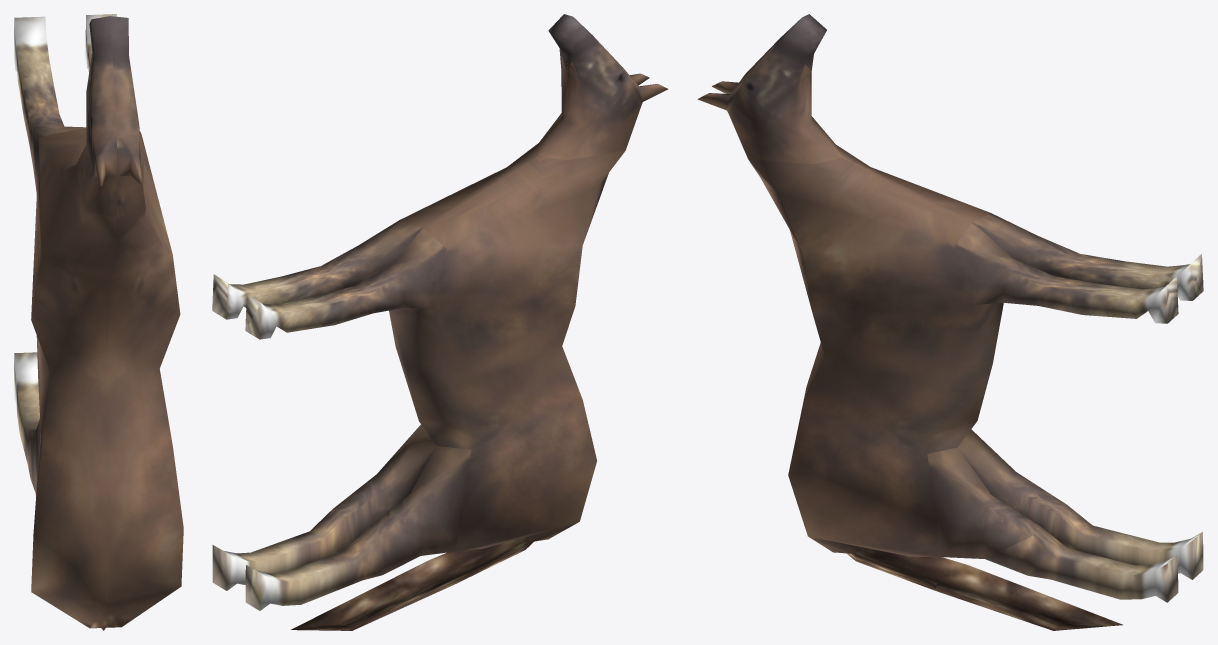
The model's file is horse_21.fbx.
3 views of the same model, side by side, from view 1: azimuth 30°, elevation 25°; view 2: azimuth 150°, elevation 25°; view 3: azimuth 270°, elevation 25° (orthographic). The views are drawn at different scales.
Parts seen in each view (by area): view 1: horse_21; view 2: horse_21; view 3: horse_21.
Part boxes in pixels (left/top/right/bottom): horse_21: left=14, top=14, right=183, bottom=630; horse_21: left=212, top=14, right=668, bottom=630; horse_21: left=697, top=14, right=1203, bottom=630.
Bounding box in the file's own units: 23.15 × 51.69 × 42.04.
